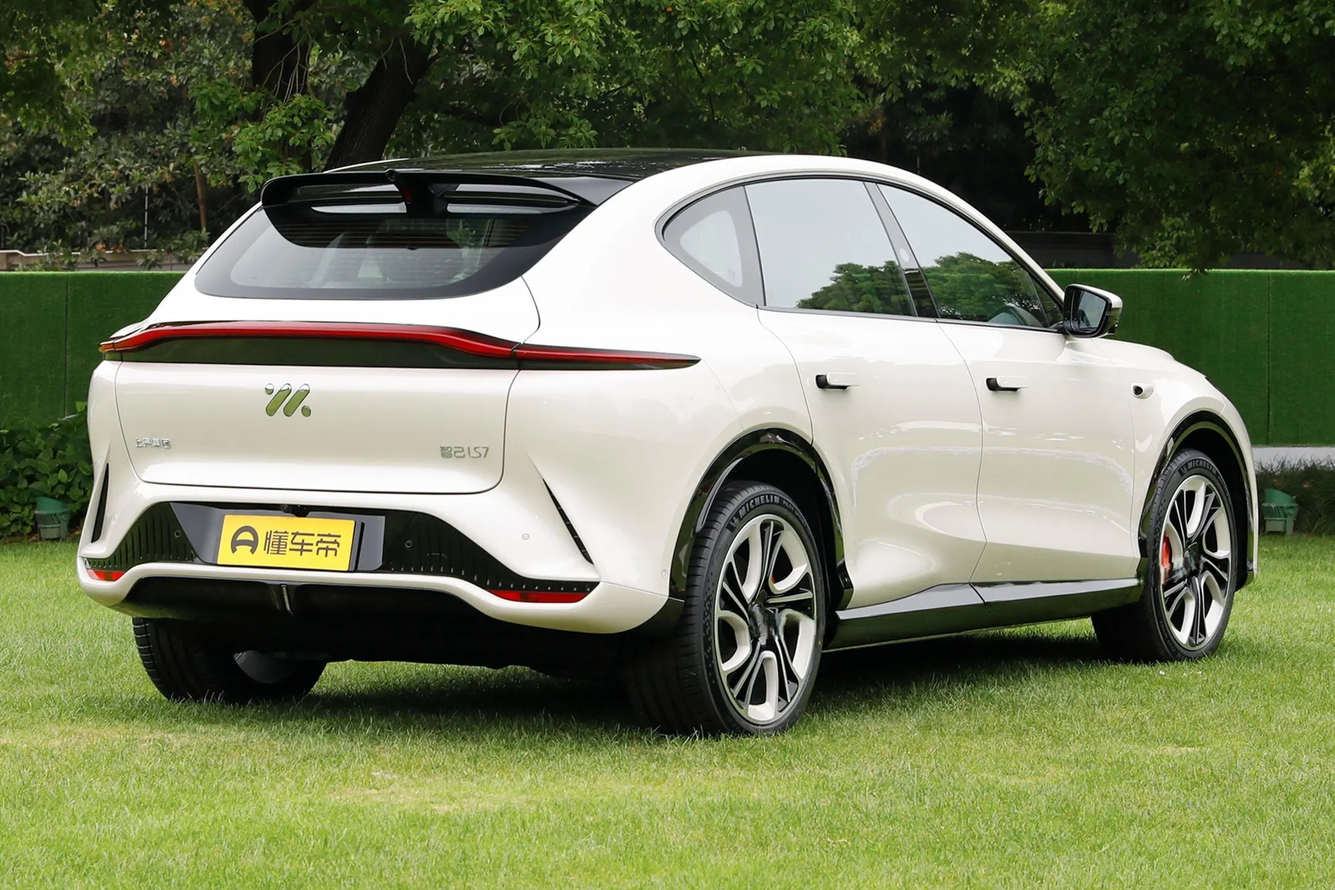IM: (265, 383, 310, 416)
